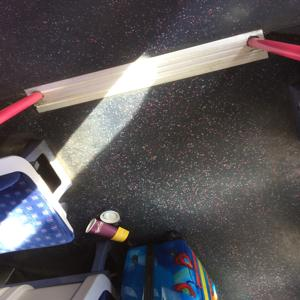cardboard: (82, 218, 133, 245)
plastic: (98, 208, 125, 225)
